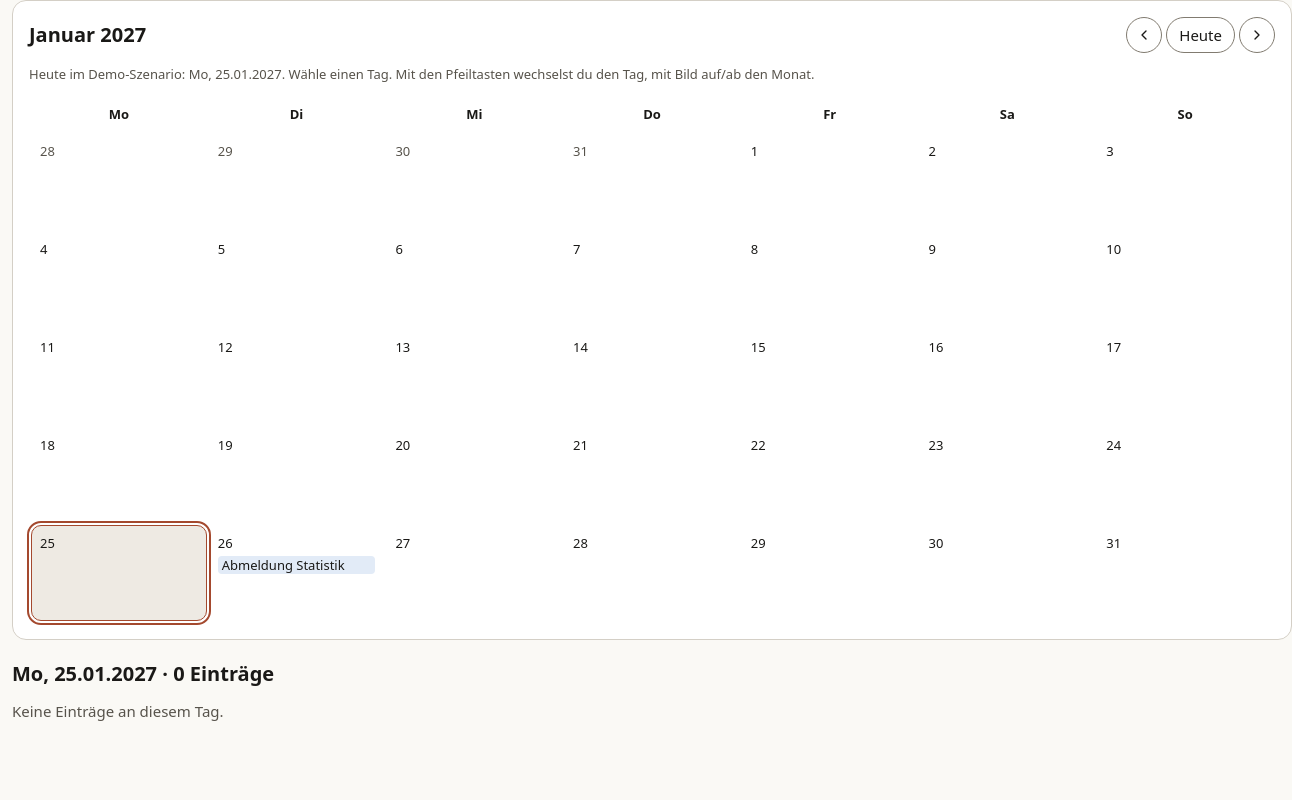
P5-14: selects days with keyboard, crosses months, and returns to the demo day
Press Arrowright
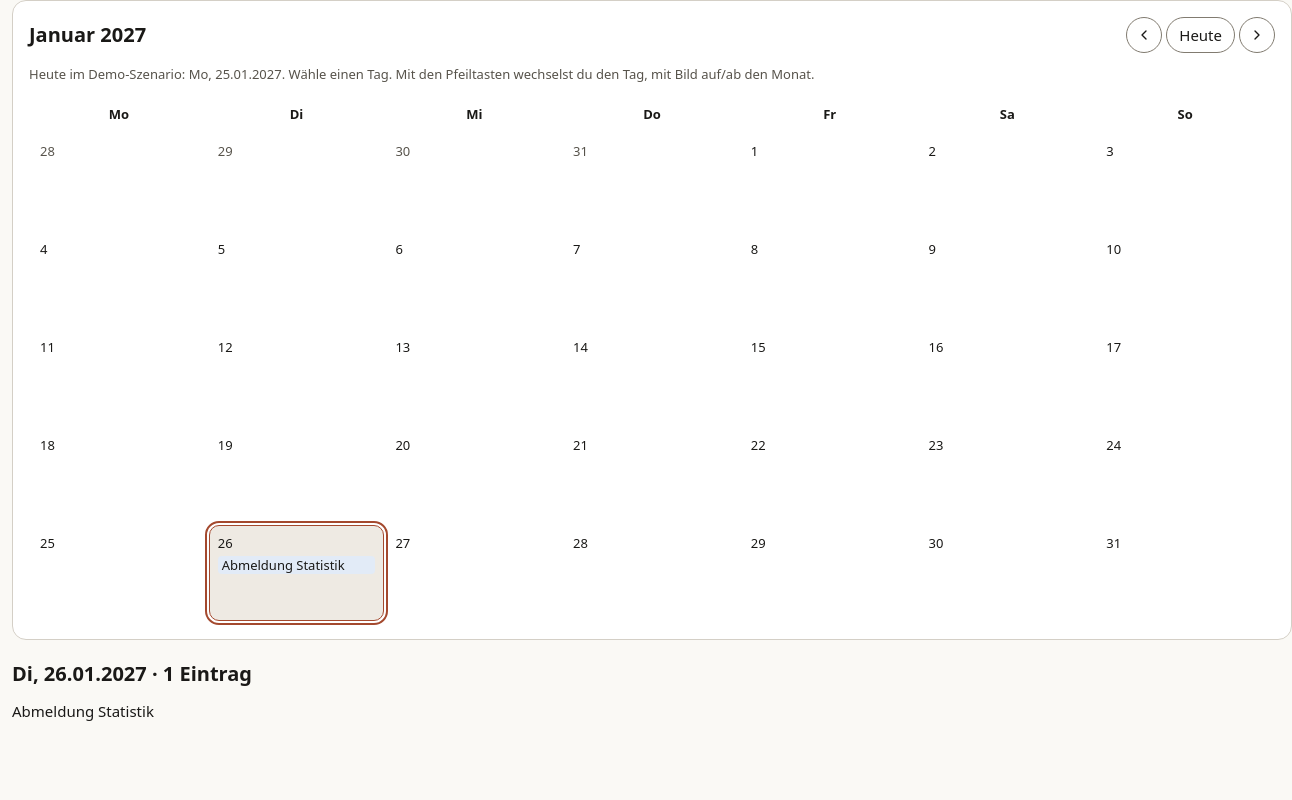
Now the list item "Abmeldung Statistik" is shown, box x1=12 y1=701 x2=154 y2=721
Press Pagedown
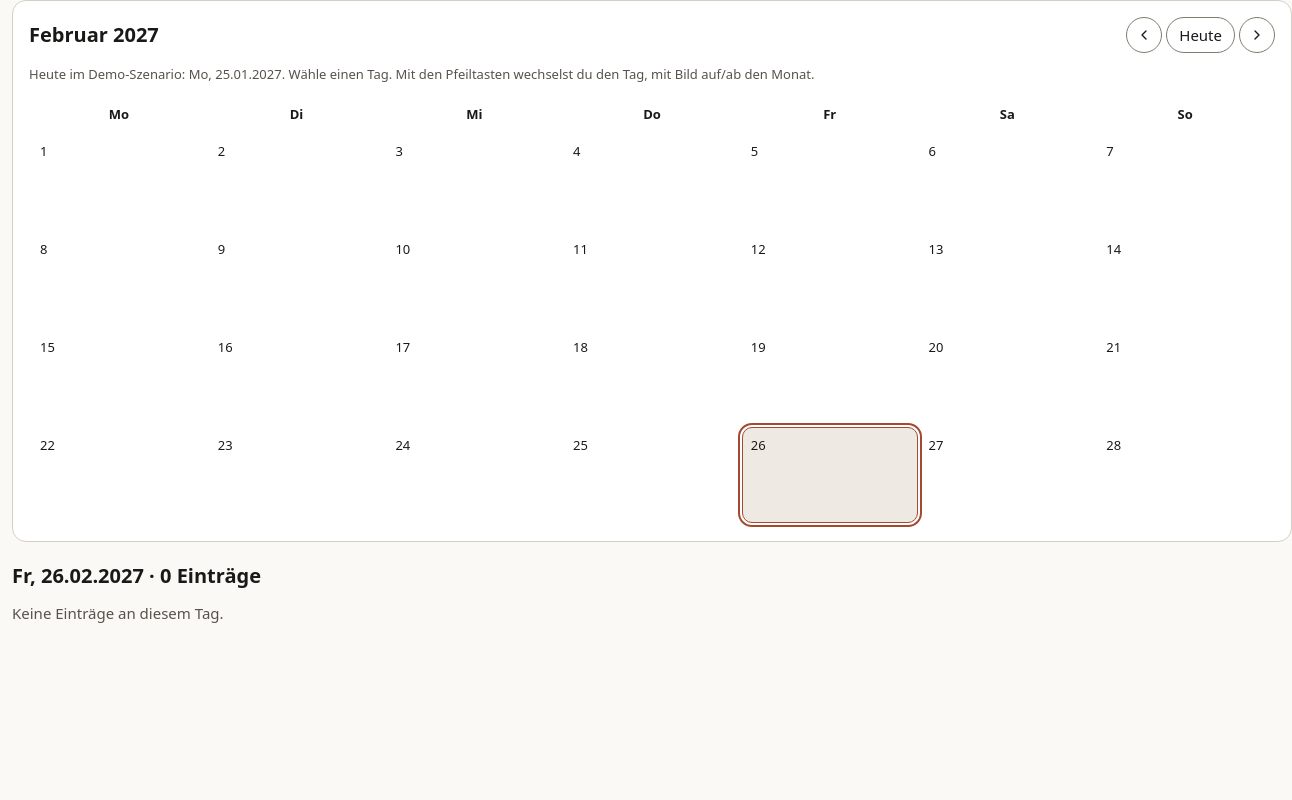
Now the heading "Februar 2027" is shown, box x1=29 y1=21 x2=159 y2=49
Click the button "Heute" at (1201, 35), box x1=1166 y1=17 x2=1235 y2=53
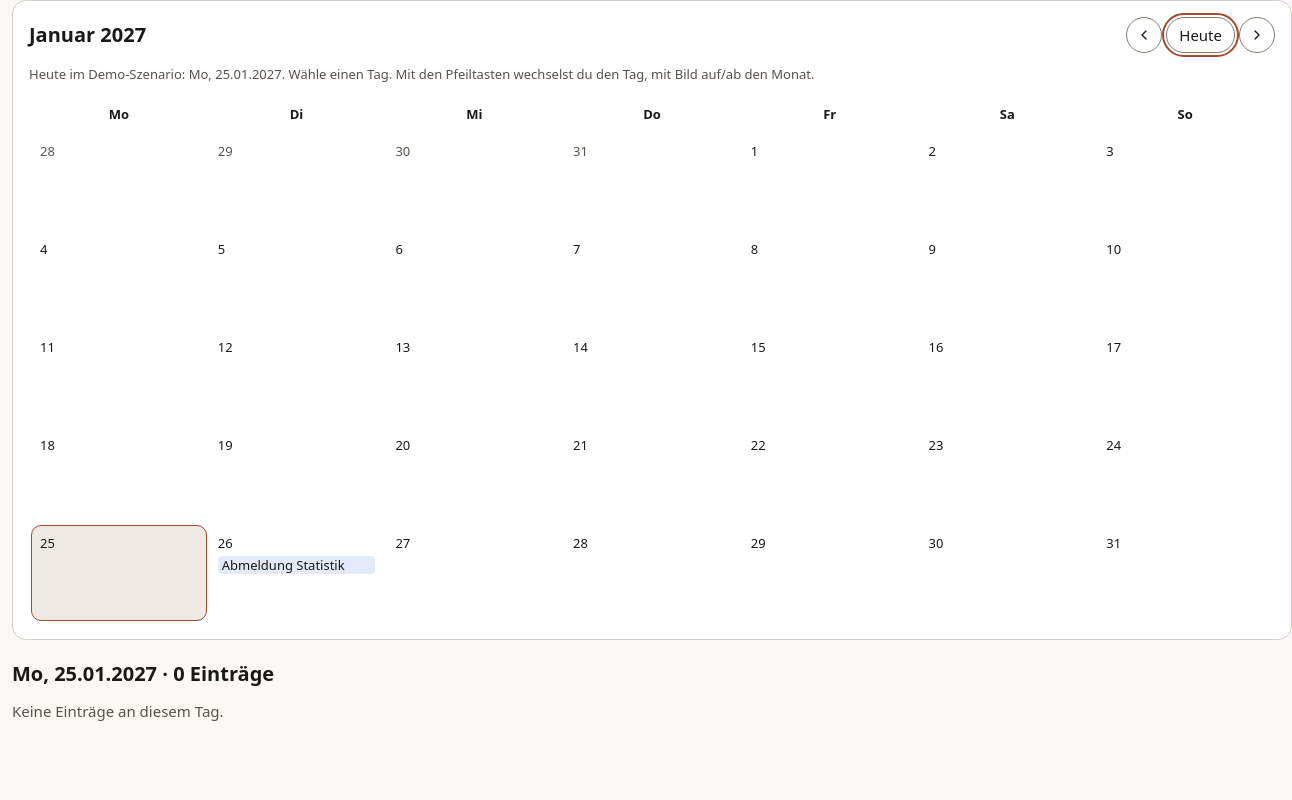
Now the heading "Januar 2027" is shown, box x1=29 y1=21 x2=146 y2=49
